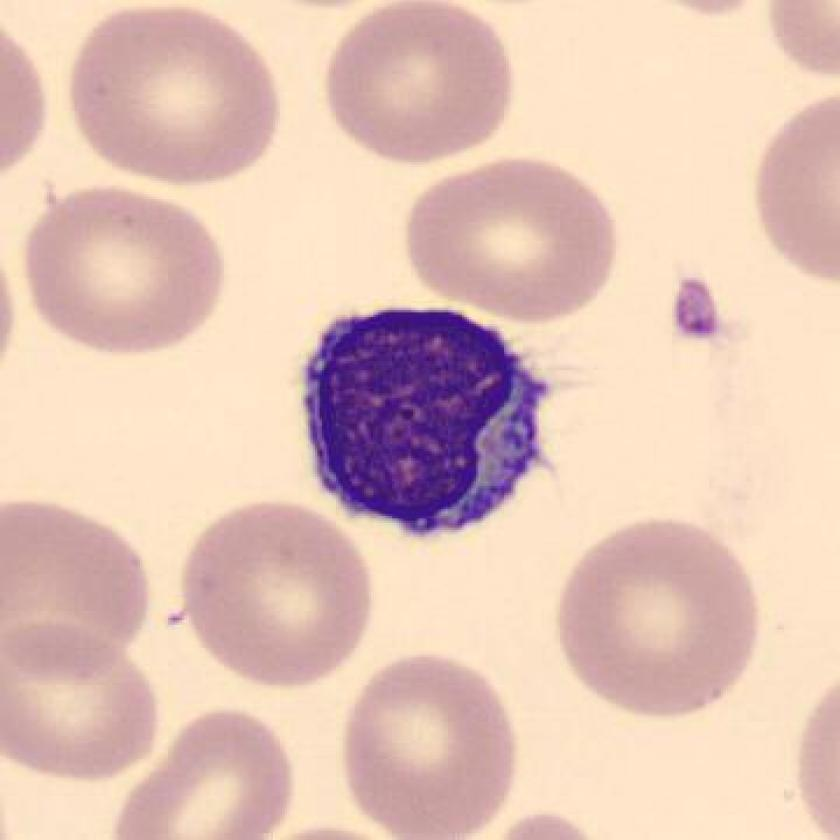lymphocyte: (286, 281, 561, 552)
platelets: (666, 269, 725, 348)
